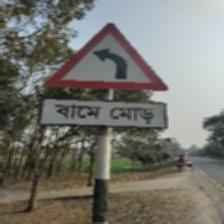Left-Turn: (40, 22, 171, 131)
